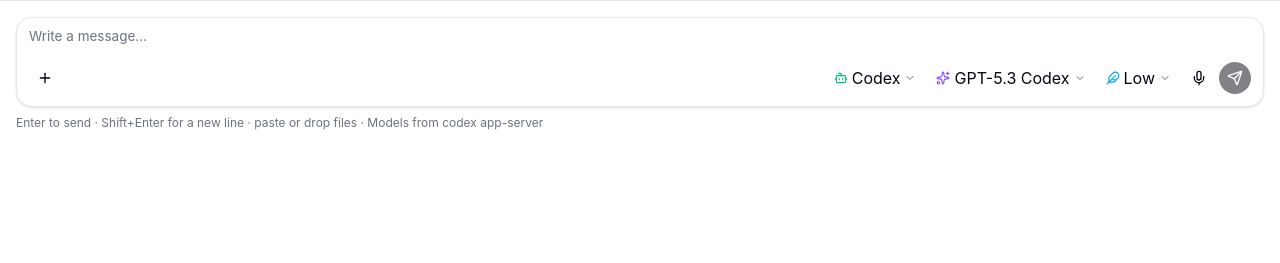
AssistantComposer › shows the slash-command palette when the input starts with a slash
Type "/" into the text box with placeholder "Write a message...".
click(640, 40); type("/")  # box [17,18,1263,62]
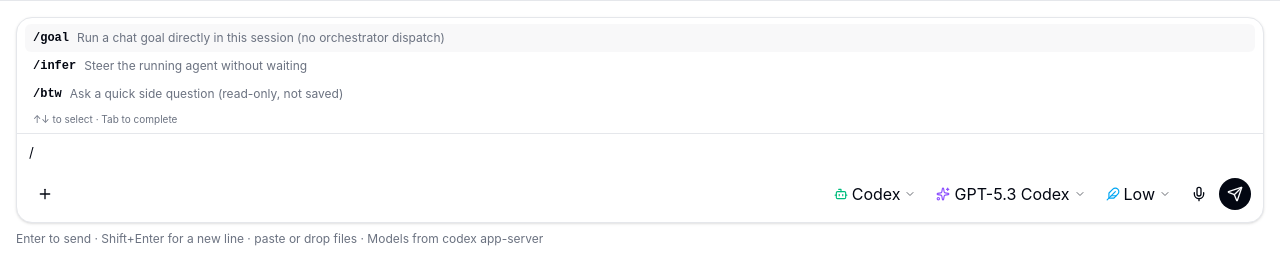
Expected: the text "/goal" is shown, [33,30,69,46]
Expected: the text "/infer" is shown, [33,58,76,74]
Expected: the text "/btw" is shown, [33,86,62,102]
